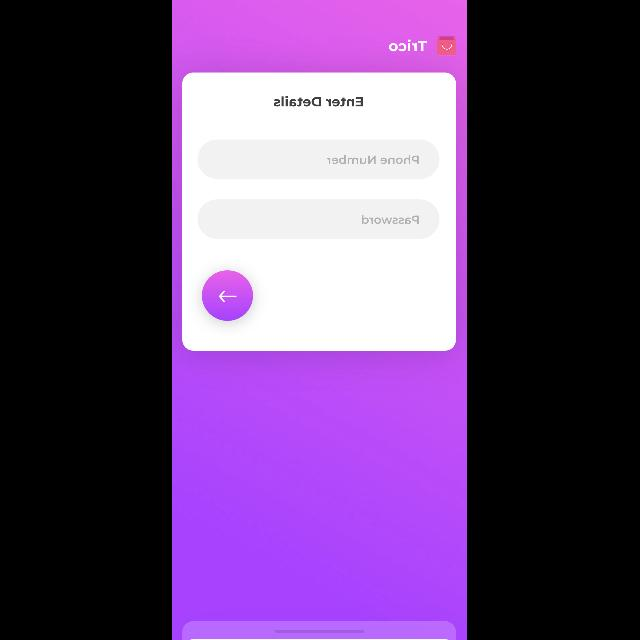icon: (202, 271, 254, 321)
image: (438, 36, 457, 56)
input: (198, 140, 440, 178), (198, 200, 440, 238)
text: (274, 96, 364, 108), (328, 156, 420, 164), (362, 216, 420, 224), (389, 40, 427, 52)
